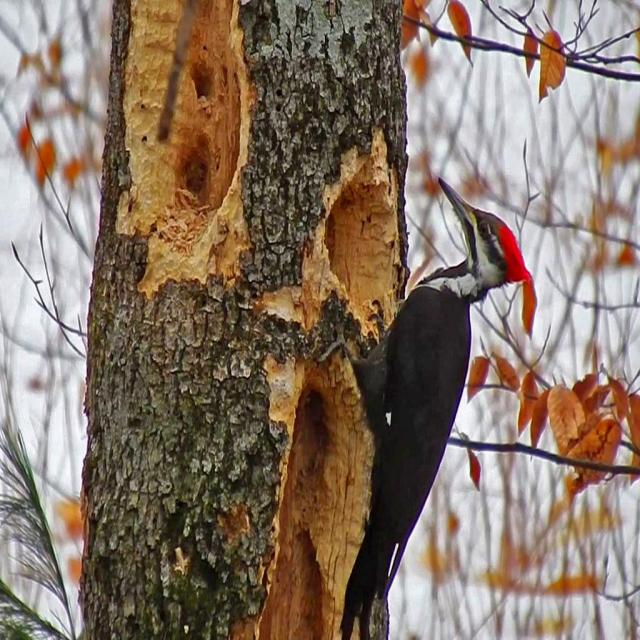woodpecker: (312, 179, 535, 639)
